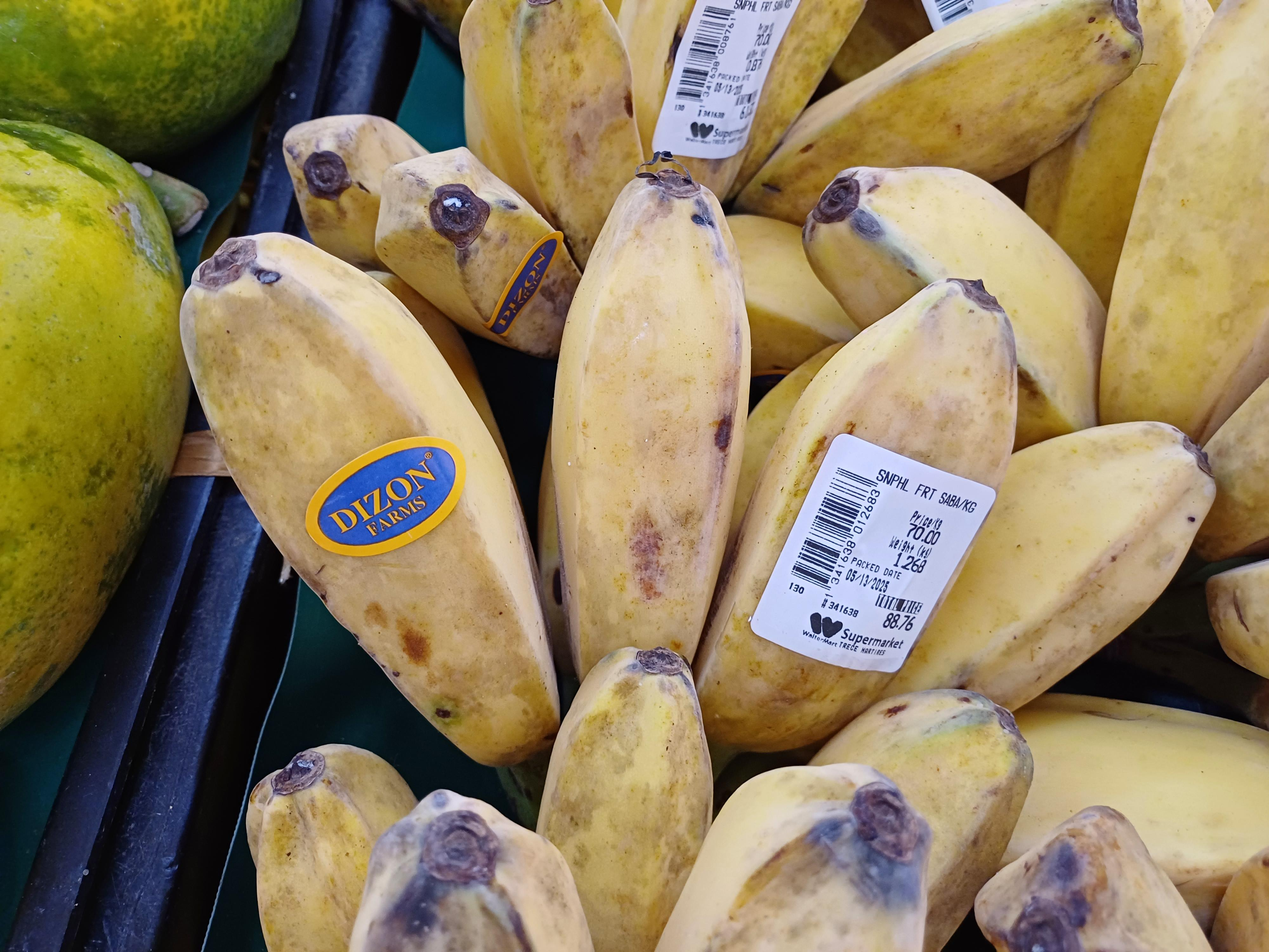ripe: (174, 167, 1220, 771), (727, 0, 1269, 687), (282, 0, 1145, 363), (243, 647, 1033, 952), (971, 690, 1269, 952)
